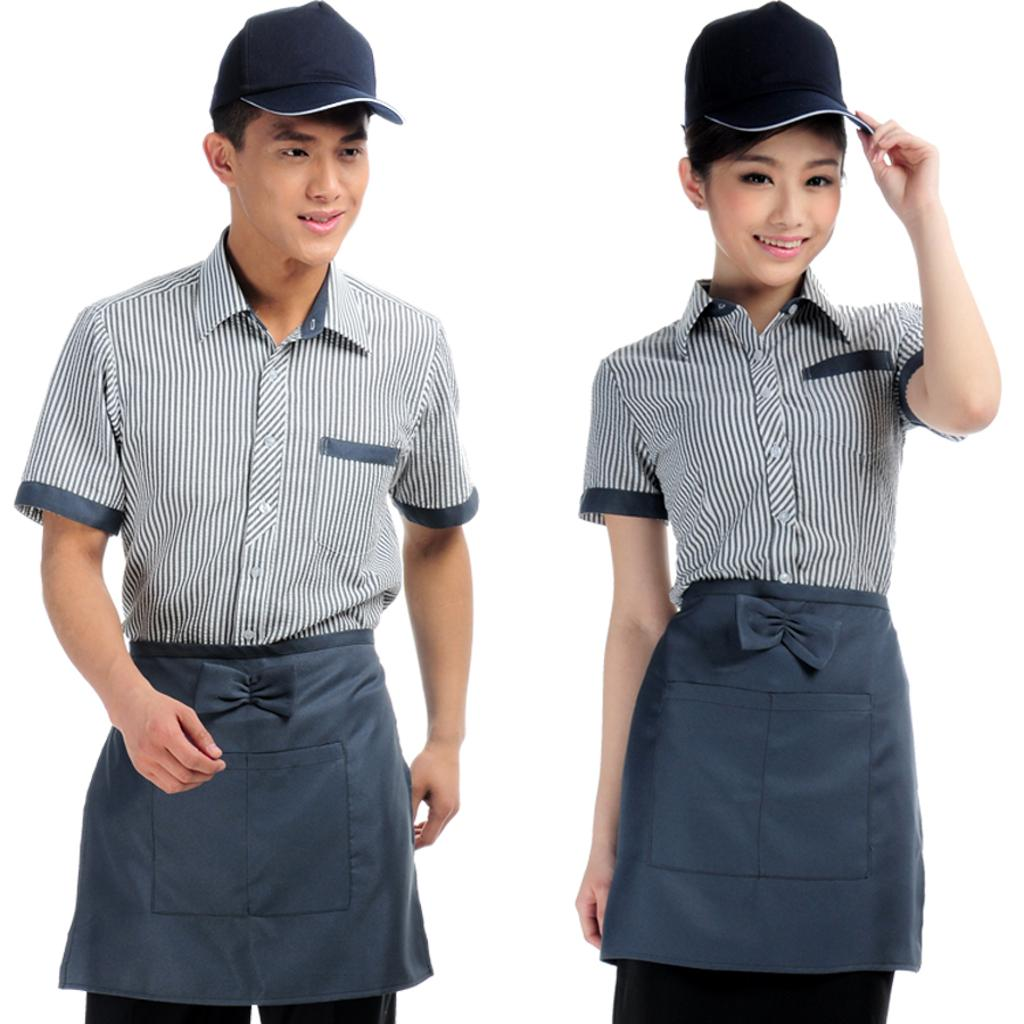face: (230, 94, 370, 260), (712, 110, 844, 284)
